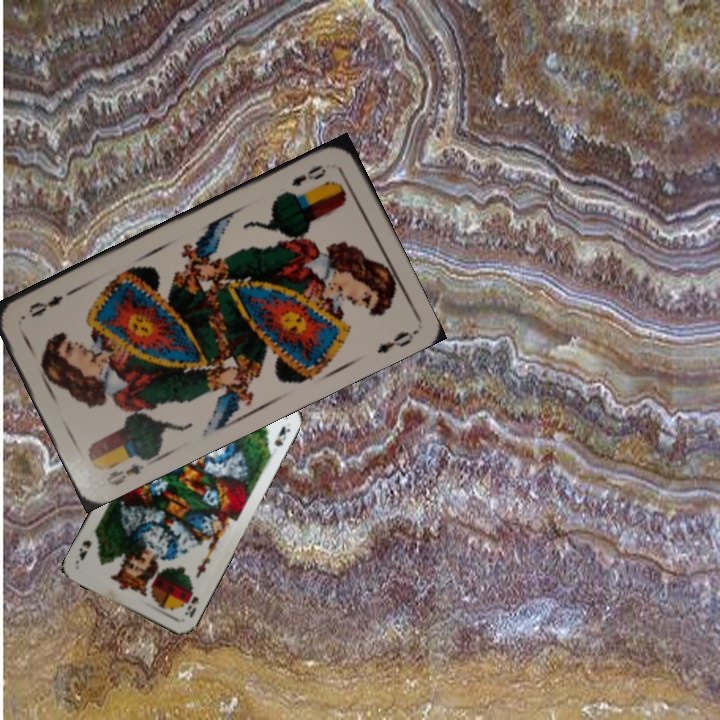EO: (101, 459, 147, 489), (287, 161, 329, 189)
SK: (180, 582, 201, 620)
